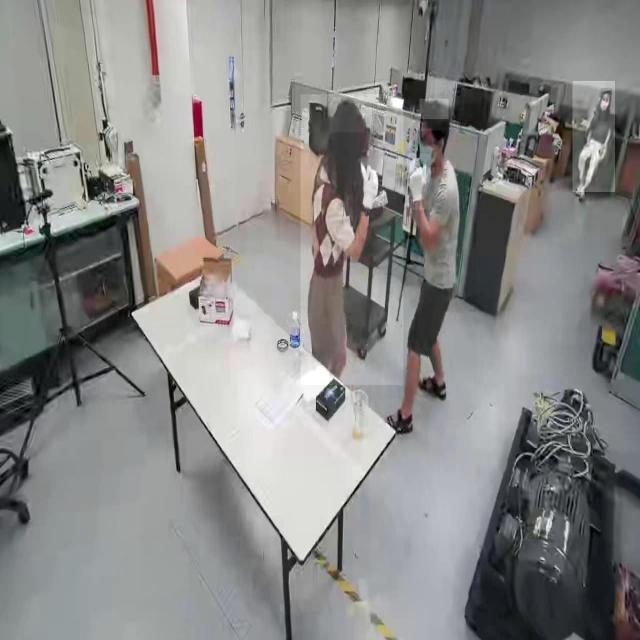gloves: (356, 159, 384, 218), (406, 154, 432, 210)
